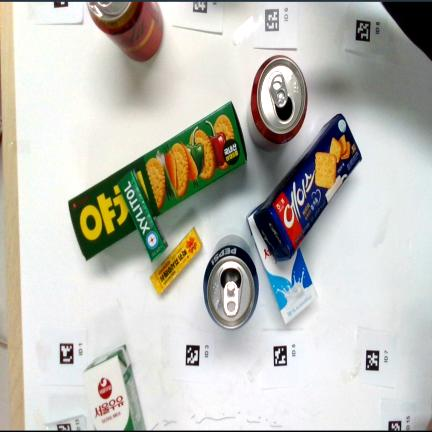can_coke_decaf: (87, 2, 163, 61)
can_coke_zero: (248, 55, 307, 151)
can_pepsi: (203, 235, 259, 329)
cracker_ace: (251, 114, 361, 261)
cracker_vege: (68, 101, 248, 263)
gum_green: (120, 171, 165, 260)
gum_yellow: (151, 227, 202, 294)
milk_blue: (248, 213, 316, 323)
milk_green: (83, 345, 144, 430)
